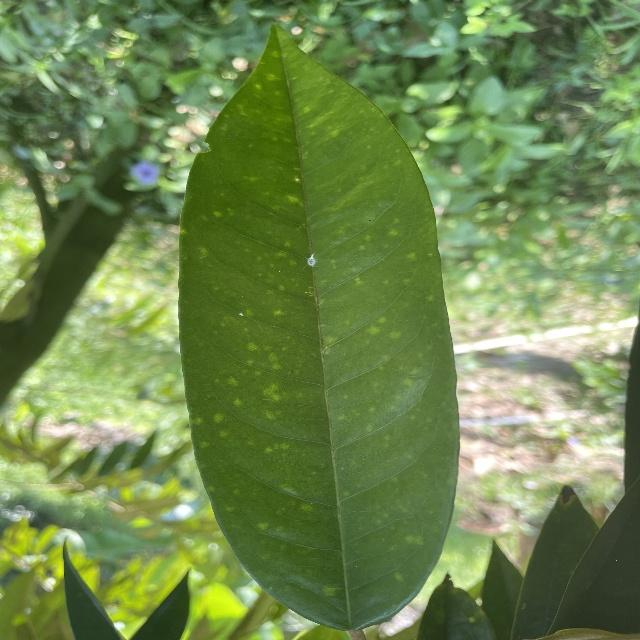Leaf Spot: (171, 15, 463, 633)
